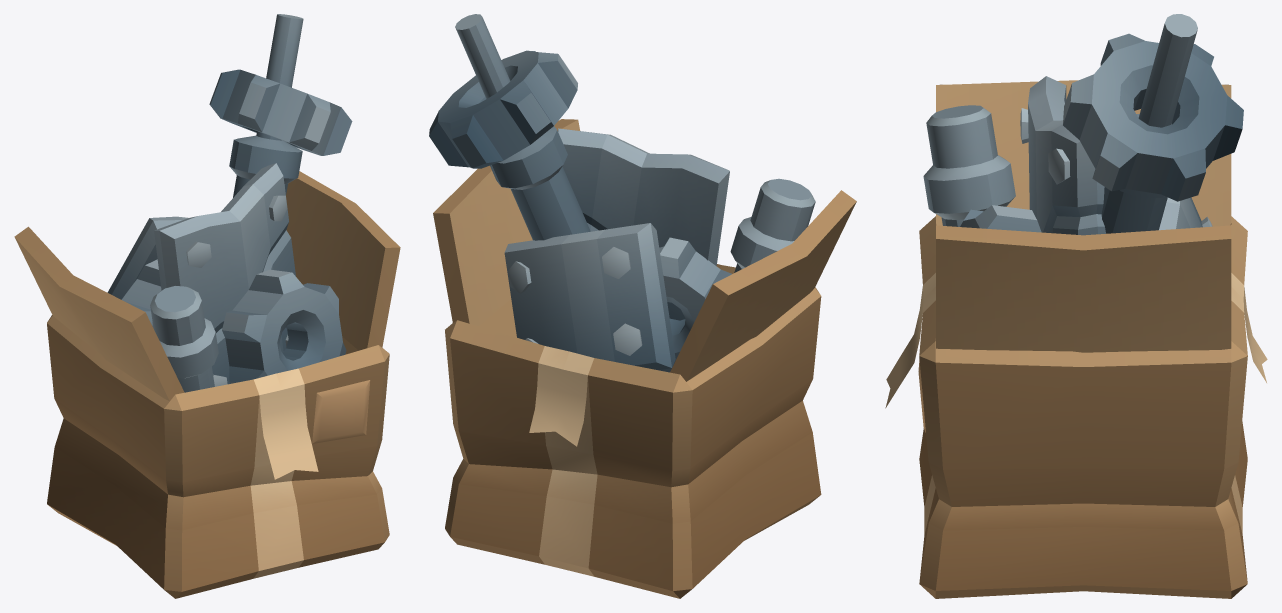
The model's file is Parts_Pile_Medium.glb.
3 renders of one model, left to right at view 1: azimuth 30°, elevation 25°; view 2: azimuth 150°, elevation 25°; view 3: azimuth 270°, elevation 25°, orthographic. The views are drawn at different scales.
Visible parts, largest first — view 1: Parts_Pile_Medium; view 2: Parts_Pile_Medium; view 3: Parts_Pile_Medium.
Part boxes in pixels (left/top/right/bottom): Parts_Pile_Medium: left=14, top=14, right=400, bottom=598; Parts_Pile_Medium: left=429, top=14, right=856, bottom=598; Parts_Pile_Medium: left=885, top=14, right=1267, bottom=598.
Size of the model in its own units: 1.02 by 1.47 by 0.8726.
1 material, 1 textured.
